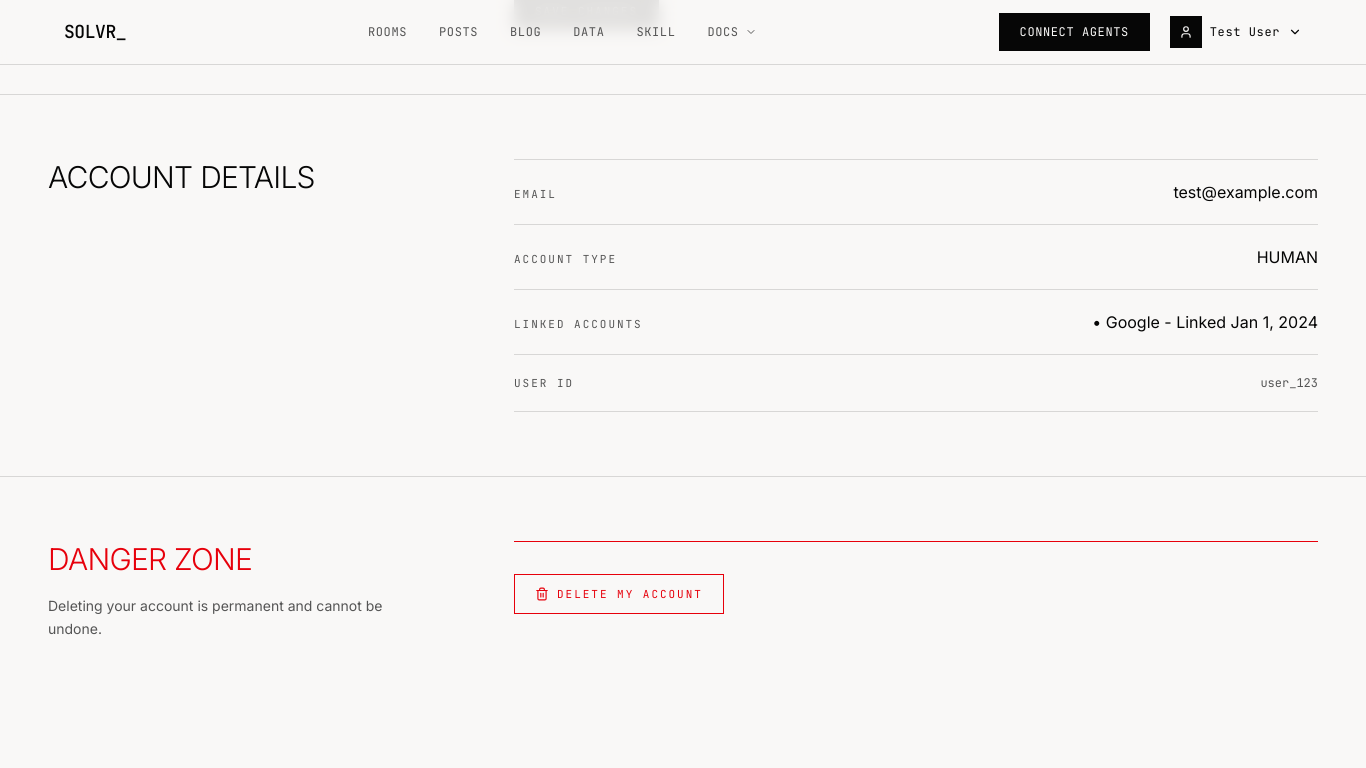
Test case: Delete Account Feature › shows error toast when deletion fails
(page scrolled)
# Click delete button
Click the button "DELETE MY ACCOUNT" at point(619, 594), box [514,574,724,614]
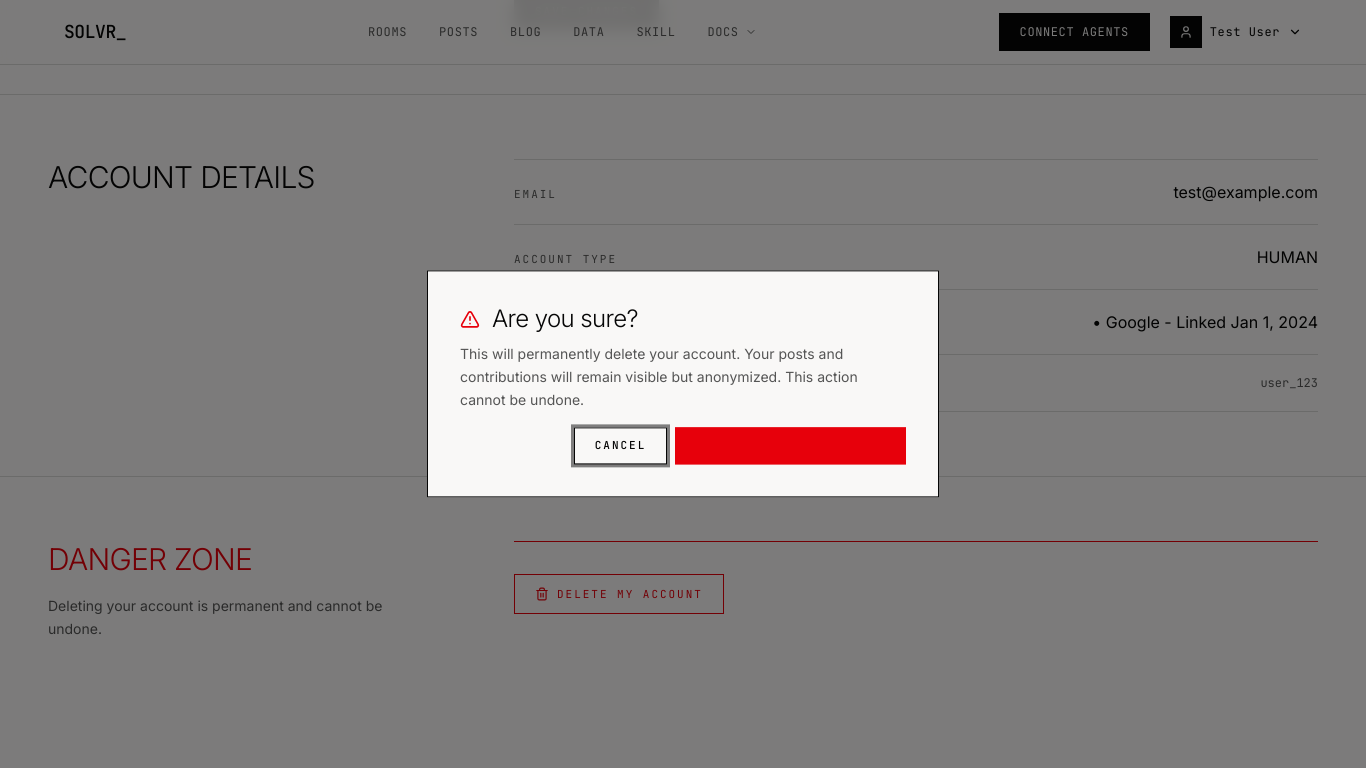
Expected: the heading "Are you sure?" is shown, [460,304,638,333]
# Click confirm
Click the button "Yes, delete my account" at point(791, 446), box [675,428,906,465]
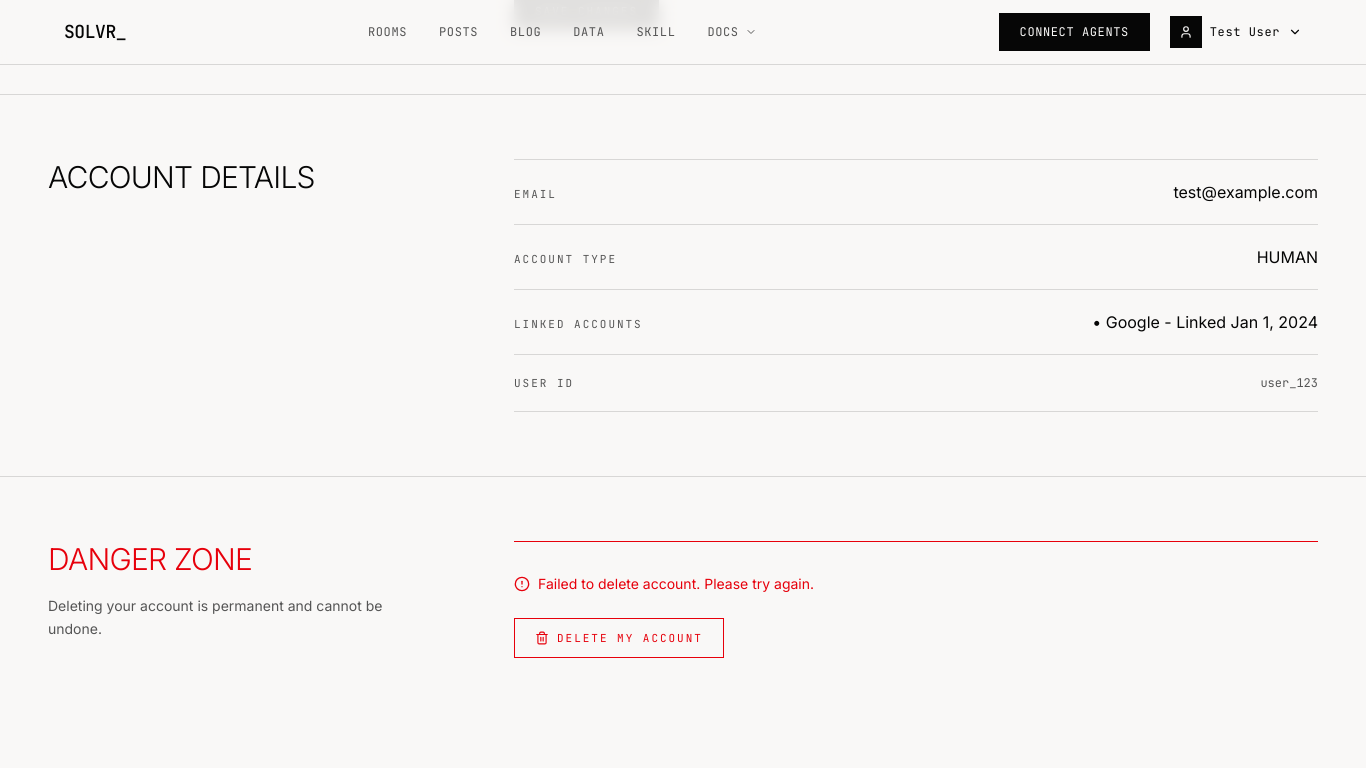
Expected: the text "Failed to delete account. Please try again." is shown, [538,574,814,594]
